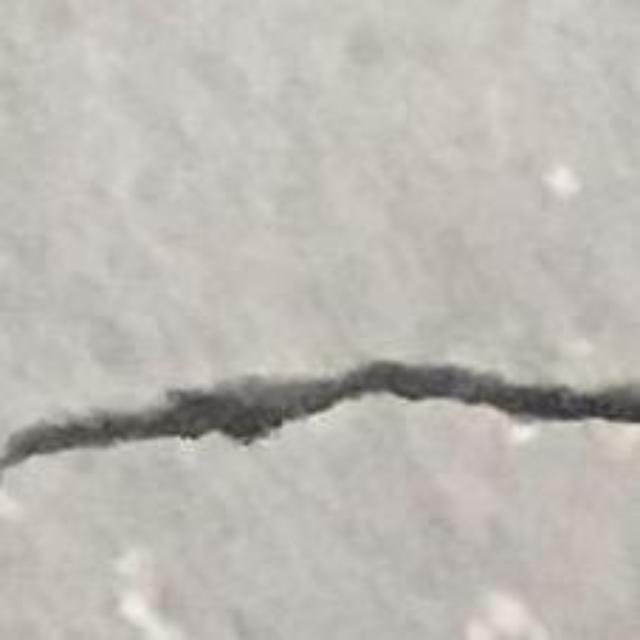crack: (0, 361, 639, 473)
